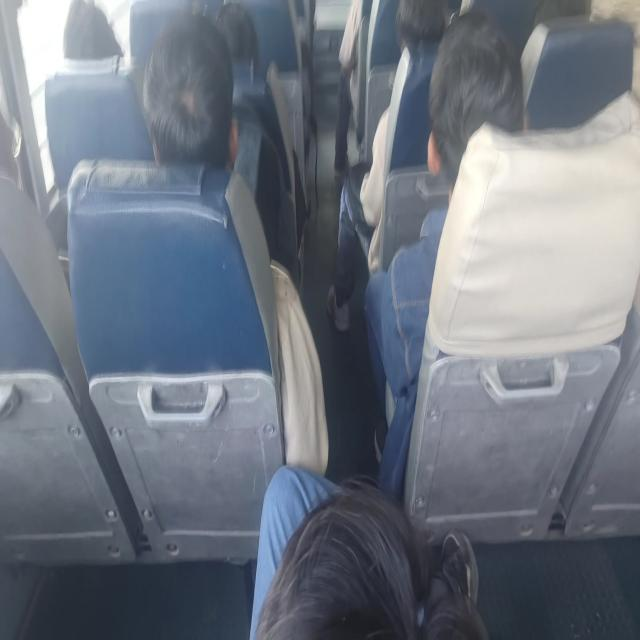person: (141, 10, 329, 474), (363, 9, 526, 499), (249, 463, 485, 638), (326, 0, 449, 332), (141, 11, 239, 170), (333, 0, 363, 180), (62, 0, 124, 61)
